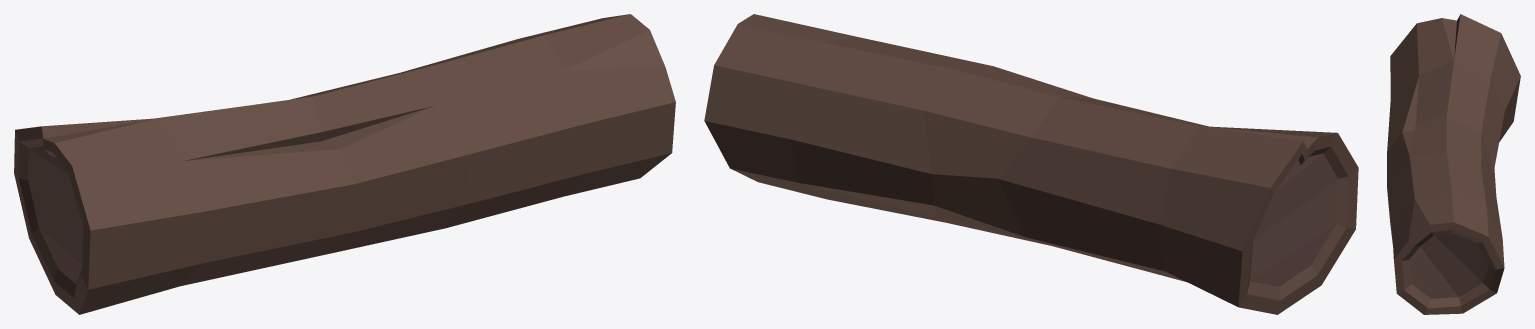
File: WoodLog.glb
The picture shows the model from 3 angles, left to right: view 1: azimuth 30°, elevation 25°; view 2: azimuth 150°, elevation 25°; view 3: azimuth 270°, elevation 25°; orthographic projection. The views are drawn at different scales.
Parts seen in each view (by area): view 1: Wood, LightWood; view 2: Wood, LightWood; view 3: Wood, LightWood.
Part boxes in pixels (x1=…): Wood: x1=14, y1=14, x2=675, y2=314; LightWood: x1=28, y1=146, x2=83, y2=283; Wood: x1=704, y1=14, x2=1358, y2=314; LightWood: x1=1250, y1=153, x2=1338, y2=286; Wood: x1=1387, y1=14, x2=1520, y2=314; LightWood: x1=1409, y1=233, x2=1488, y2=298.
Bounding box in the file's own units: 3.77 × 1.09 × 1.11.
